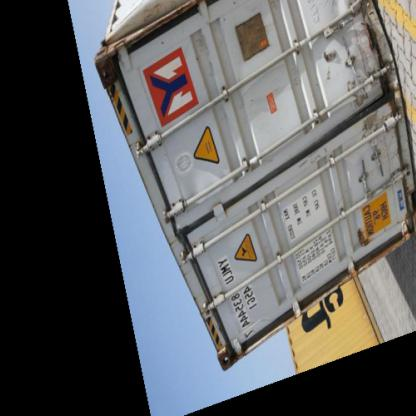Damage: (93, 0, 186, 96), (328, 21, 398, 133), (341, 224, 378, 254)
